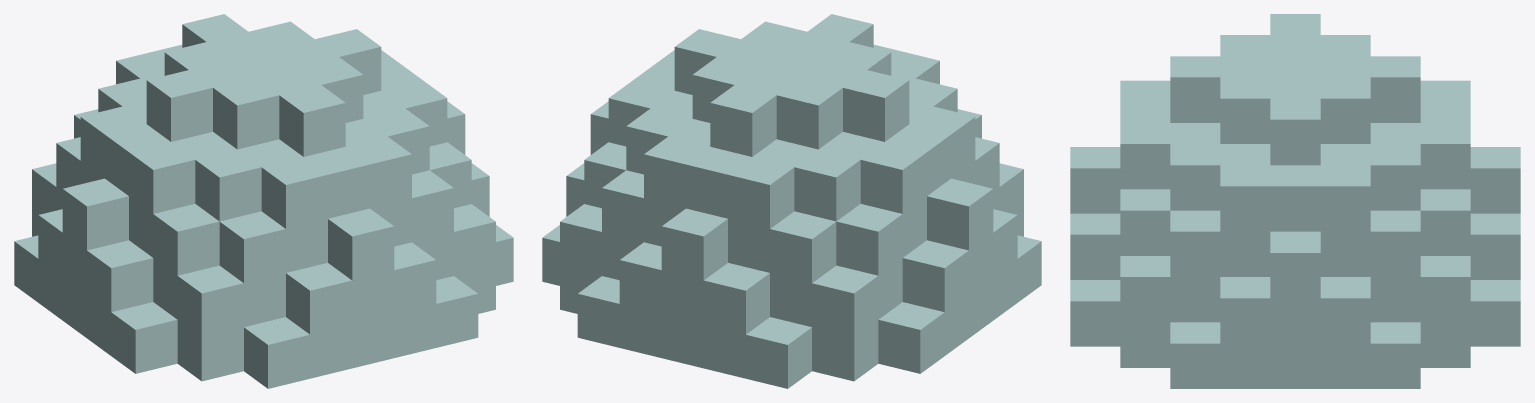
File: Light00-Glass.gltf
3 views of the same model, side by side, from view 1: azimuth 30°, elevation 25°; view 2: azimuth 150°, elevation 25°; view 3: azimuth 270°, elevation 25° (orthographic). The views are drawn at different scales.
Size of the model in its own units: 9 by 5 by 9.
